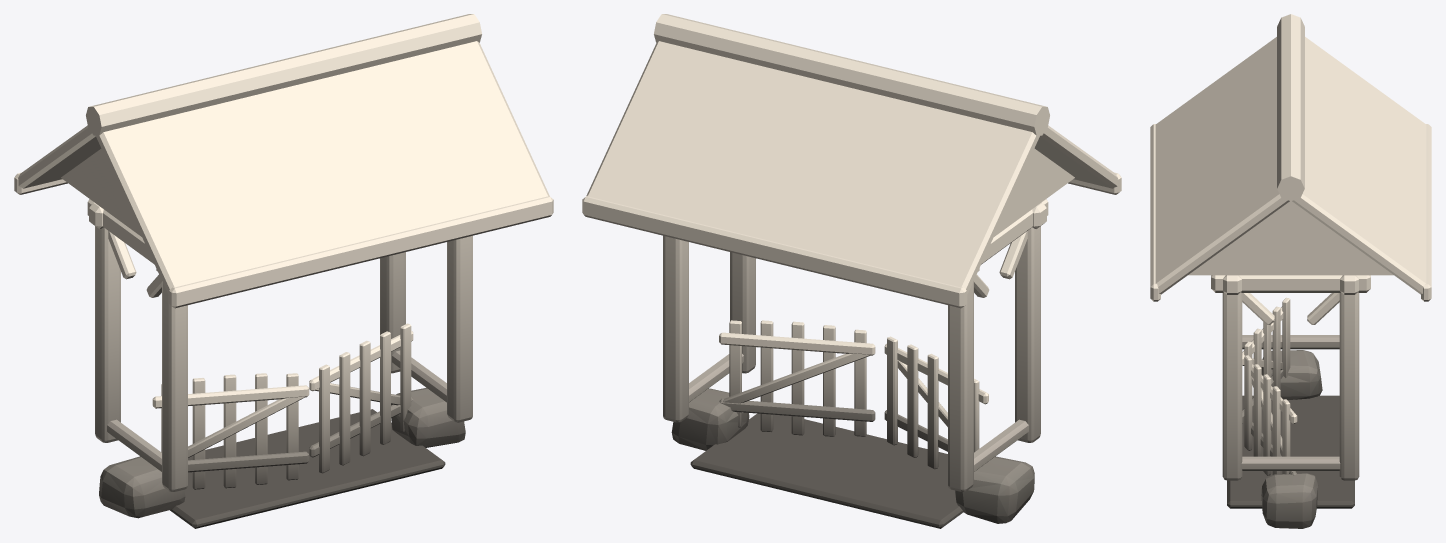
Rendered from SM_VK_LowWall_Lychgate.fbx.
3 renders of one model, left to right at view 1: azimuth 30°, elevation 25°; view 2: azimuth 150°, elevation 25°; view 3: azimuth 270°, elevation 25°, orthographic. The views are drawn at different scales.
Parts seen in each view (by area): view 1: SM_VK_LowWall_Lychgate.001; view 2: SM_VK_LowWall_Lychgate.001; view 3: SM_VK_LowWall_Lychgate.001.
Part boxes in pixels (box(x1,y1,x2,y2)): SM_VK_LowWall_Lychgate.001: box(14, 14, 553, 528); SM_VK_LowWall_Lychgate.001: box(582, 14, 1121, 528); SM_VK_LowWall_Lychgate.001: box(1150, 14, 1431, 528).
Bounding box in the file's own units: 3.62 × 3.78 × 2.64.
